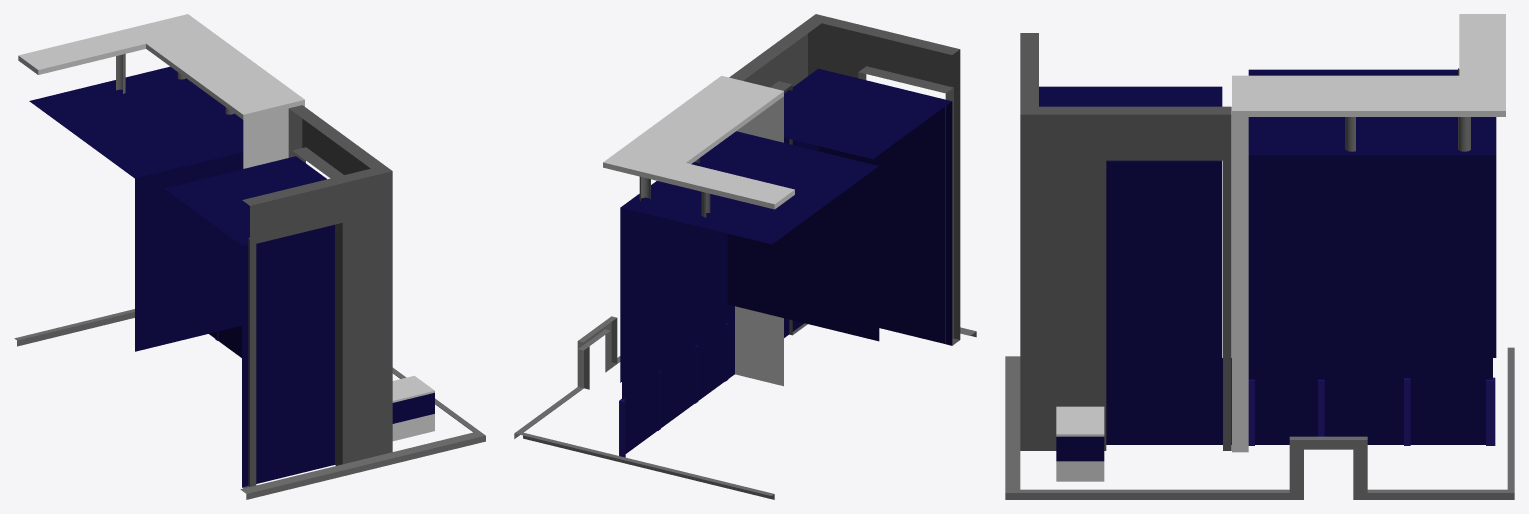
File: Farena fbx.fbx
The picture shows the model from 3 angles, left to right: view 1: azimuth 30°, elevation 25°; view 2: azimuth 150°, elevation 25°; view 3: azimuth 270°, elevation 25°; orthographic projection. The views are drawn at different scales.
Visible parts, largest first — view 1: polySurface4, polySurface1, polySurface7, polySurface5, pCube18, pCube15; view 2: polySurface4, polySurface1, polySurface5, polySurface7, pCube18; view 3: polySurface4, polySurface1, polySurface7, polySurface5, pCube18, pCube15.
Part boxes in pixels (<box>): polySurface4: <box>29,66,243,351</box>; polySurface1: <box>164,156,334,487</box>; polySurface7: <box>242,105,392,488</box>; polySurface5: <box>18,14,304,168</box>; pCube18: <box>14,309,485,499</box>; pCube15: <box>392,375,434,441</box>; polySurface4: <box>620,131,879,382</box>; polySurface1: <box>622,68,952,453</box>; polySurface5: <box>603,75,794,386</box>; polySurface7: <box>729,14,960,345</box>; pCube18: <box>514,316,976,499</box>; polySurface4: <box>1248,69,1496,357</box>; polySurface1: <box>1039,86,1492,444</box>; polySurface7: <box>1020,33,1231,450</box>; polySurface5: <box>1232,14,1505,452</box>; pCube18: <box>1005,347,1514,499</box>; pCube15: <box>1056,406,1104,481</box>.
Bounding box in the file's own units: 22.44 × 24.62 × 33.26.
